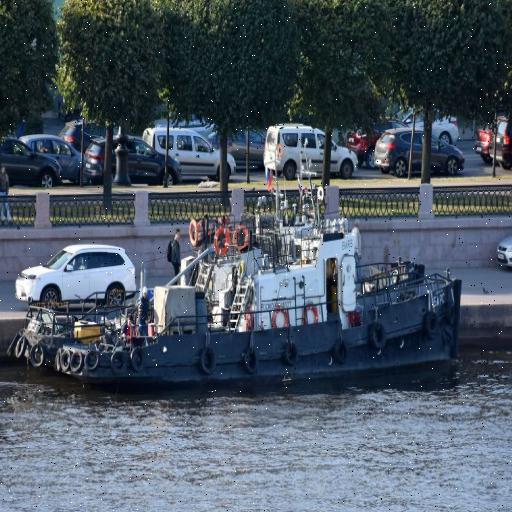tugboat: (52, 169, 465, 410)
